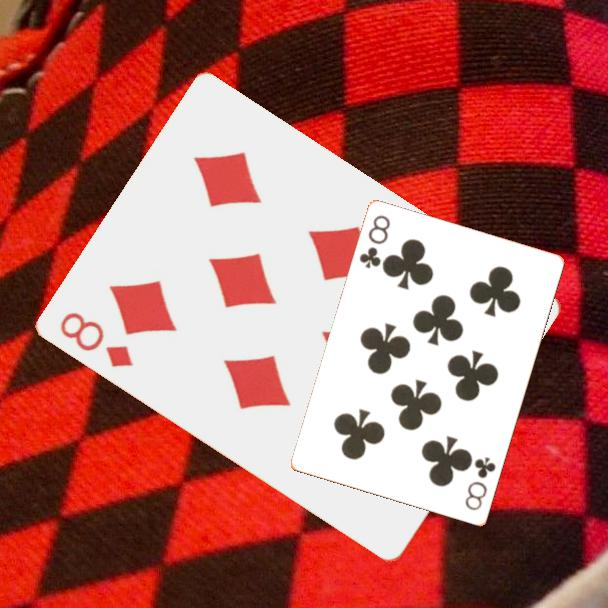c08: (462, 454, 499, 514), (356, 212, 393, 272)
d08: (57, 308, 137, 370)
